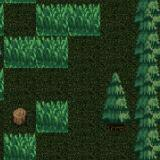Obstacle: (134, 0, 160, 160), (4, 101, 36, 133), (102, 101, 133, 133)
Slow: (4, 35, 68, 68), (36, 4, 100, 36), (36, 101, 68, 133), (3, 133, 36, 160)
